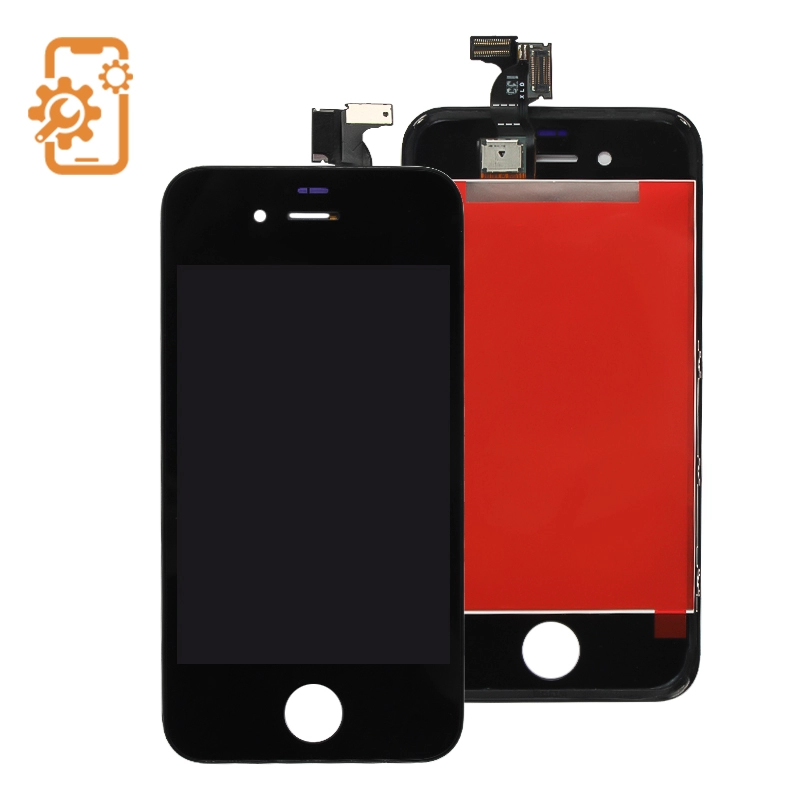phone: (152, 161, 468, 768), (398, 104, 707, 710)
